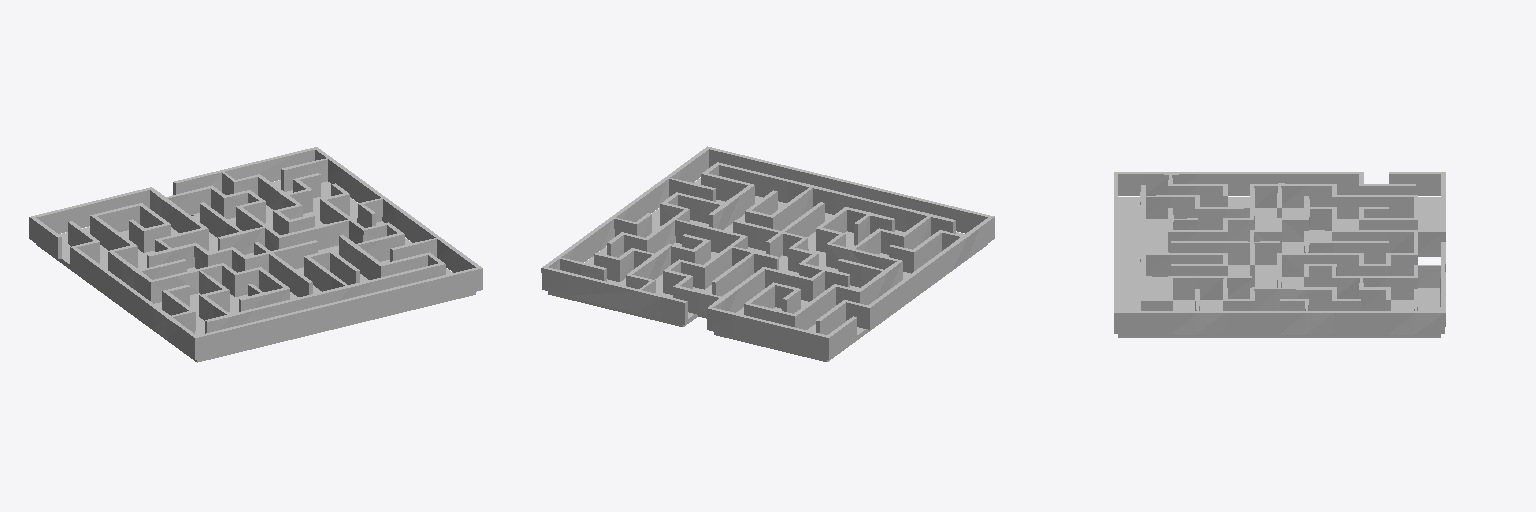
File: maze_intermediate_2.obj
The picture shows the model from 3 angles: view 1: azimuth 30°, elevation 25°; view 2: azimuth 150°, elevation 25°; view 3: azimuth 270°, elevation 25°; orthographic projection.
Parts seen in each view (by area): view 1: Curve.022_Mesh.012; view 2: Curve.022_Mesh.012; view 3: Curve.022_Mesh.012.
Boxes of the visible parts, x1,y1,x2,y2 form: Curve.022_Mesh.012: [29, 147, 482, 362]; Curve.022_Mesh.012: [541, 146, 994, 361]; Curve.022_Mesh.012: [1114, 172, 1445, 337].
Bounding box in the file's own units: 13.81 × 1.24 × 13.77.